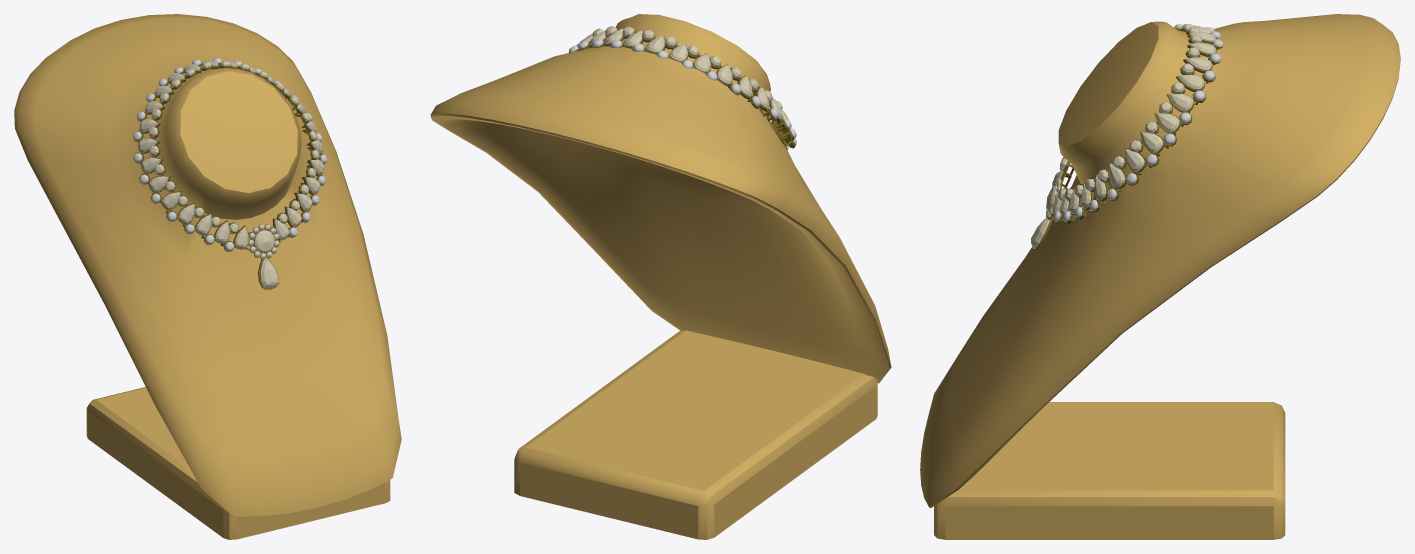
File: Necklace_9.fbx
3 views of the same model, side by side, from view 1: azimuth 30°, elevation 25°; view 2: azimuth 150°, elevation 25°; view 3: azimuth 270°, elevation 25° (orthographic). The views are drawn at different scales.
Visible parts, largest first — view 1: SM_Stand_Necklace_3, SM_Necklace_1; view 2: SM_Stand_Necklace_3, SM_Necklace_1; view 3: SM_Stand_Necklace_3, SM_Necklace_1.
Part boxes in pixels (x1=…): SM_Stand_Necklace_3: x1=14, y1=14, x2=401, y2=539; SM_Necklace_1: x1=133, y1=58, x2=327, y2=289; SM_Stand_Necklace_3: x1=430, y1=14, x2=891, y2=539; SM_Necklace_1: x1=567, y1=26, x2=796, y2=150; SM_Stand_Necklace_3: x1=920, y1=14, x2=1400, y2=539; SM_Necklace_1: x1=1031, y1=24, x2=1223, y2=251.
Size of the model in its own units: 22.51 by 29.29 by 27.78.
